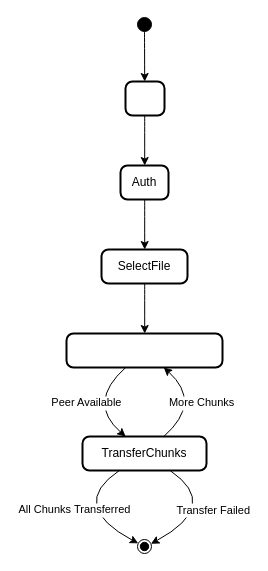
The diagram is 268 pixels wide and 571 high, and some of its shapes have lost their labels. Here are the shapes that lost their labels. From the top down, the box of each, then its label:
(124, 80, 165, 116): Init
(65, 332, 223, 368): SendUploadRequest
